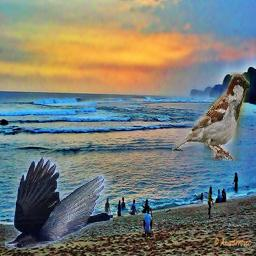Crow: (5, 158, 113, 249)
Sparrow: (172, 73, 250, 162)
